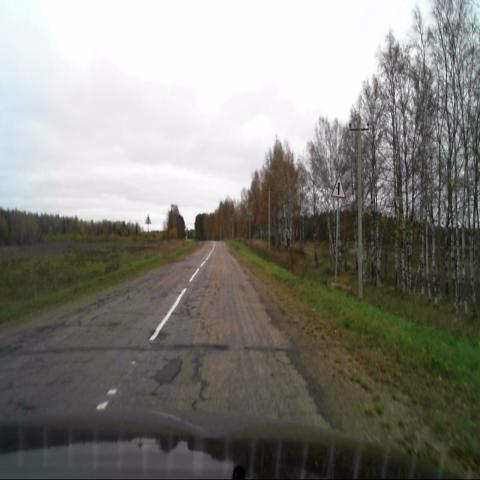2_3_3: (330, 174, 346, 199)
